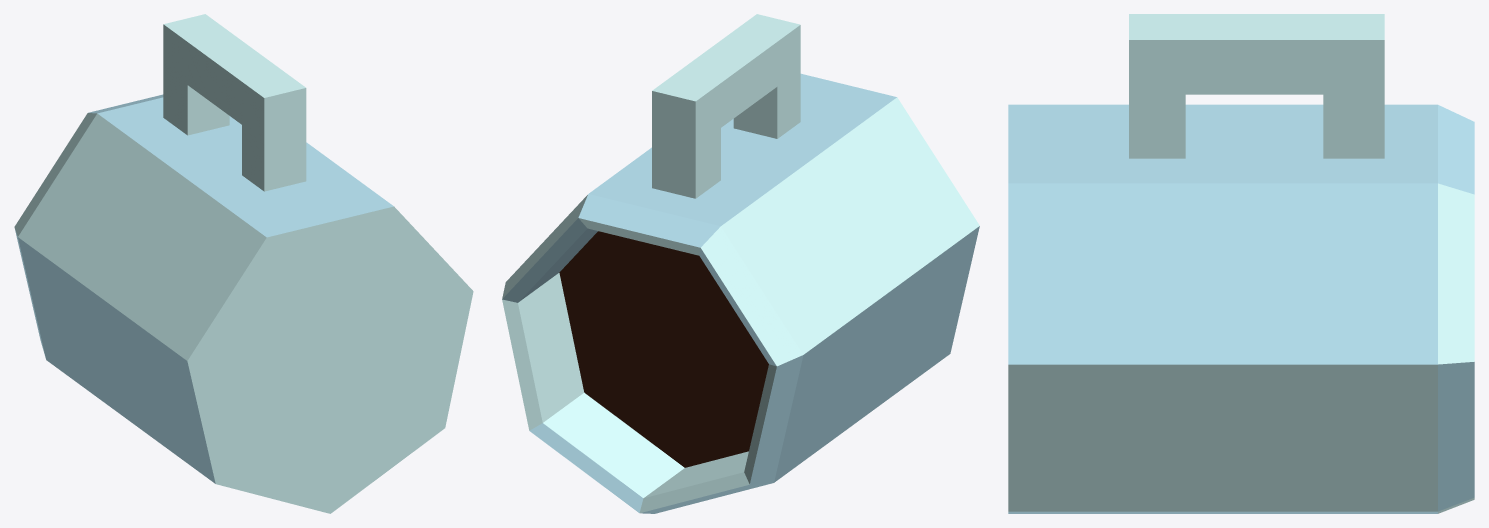
File: pink_coffee.fbx
3 views of the same model, side by side, from view 1: azimuth 30°, elevation 25°; view 2: azimuth 150°, elevation 25°; view 3: azimuth 270°, elevation 25° (orthographic). The views are drawn at different scales.
Parts seen in each view (by area): view 1: pink_coffee; view 2: pink_coffee; view 3: pink_coffee.
Boxes of the visible parts, <box> form: pink_coffee: <box>14,14,473,513</box>; pink_coffee: <box>502,14,979,513</box>; pink_coffee: <box>1008,14,1474,513</box>.
Bounding box in the file's own units: 226 × 291 × 252.
